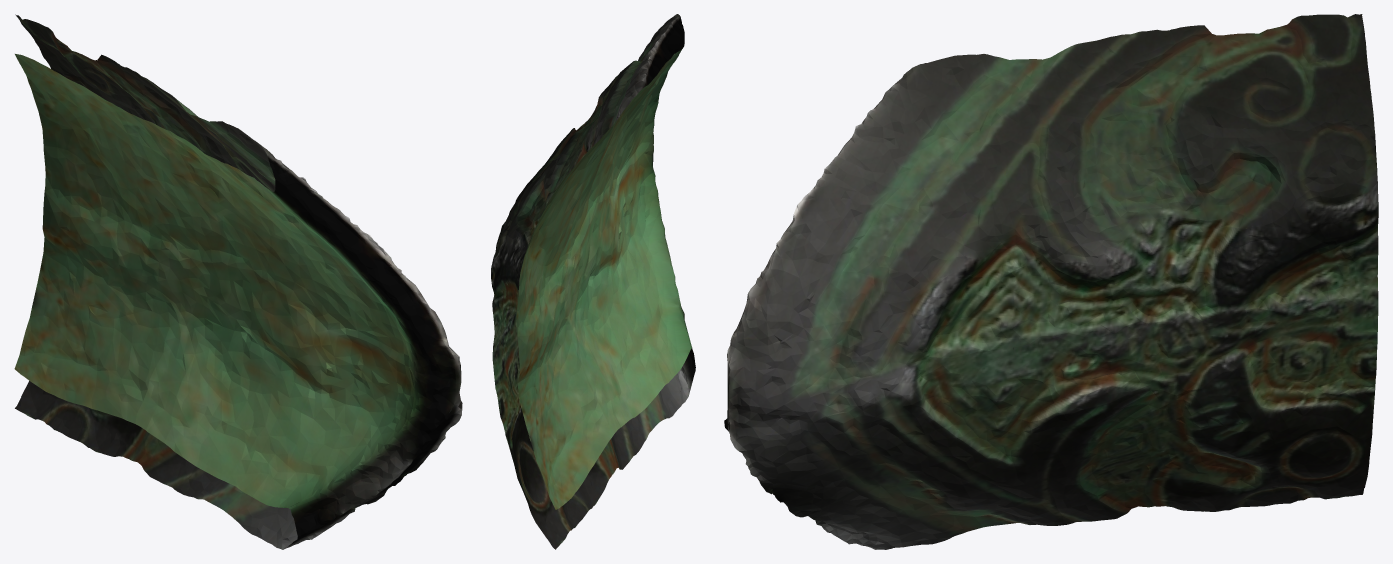
File: tile_1_3.obj
The picture shows the model from 3 angles, left to right: view 1: azimuth 30°, elevation 25°; view 2: azimuth 150°, elevation 25°; view 3: azimuth 270°, elevation 25°; orthographic projection. The views are drawn at different scales.
Parts seen in each view (by area): view 1: texture_0; view 2: texture_0; view 3: texture_0.
Part boxes in pixels (x1=…): texture_0: x1=14, y1=14, x2=462, y2=549; texture_0: x1=491, y1=14, x2=695, y2=549; texture_0: x1=724, y1=14, x2=1378, y2=549.
Size of the model in its own units: 0.0533 by 0.1107 by 0.1315.
Materials: 1 (1 with a texture image).
